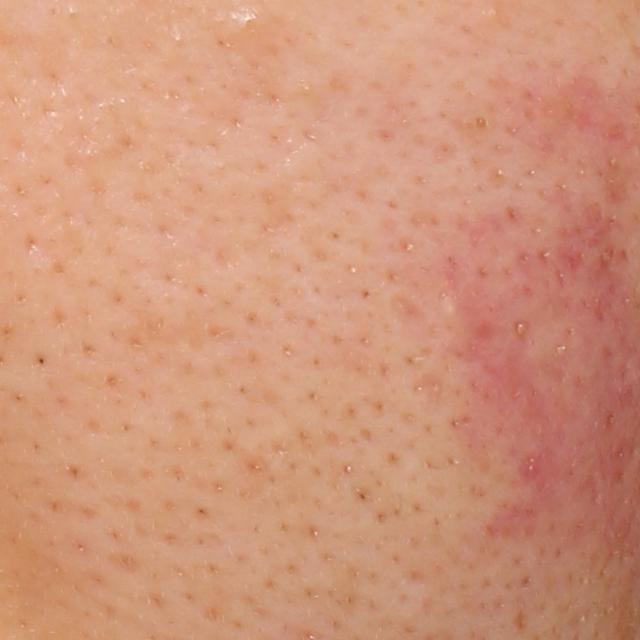atrophic_scar: (384, 290, 436, 337), (407, 368, 445, 417)
comedo: (221, 1, 280, 44), (507, 313, 532, 344), (466, 113, 492, 133), (480, 3, 499, 20)
